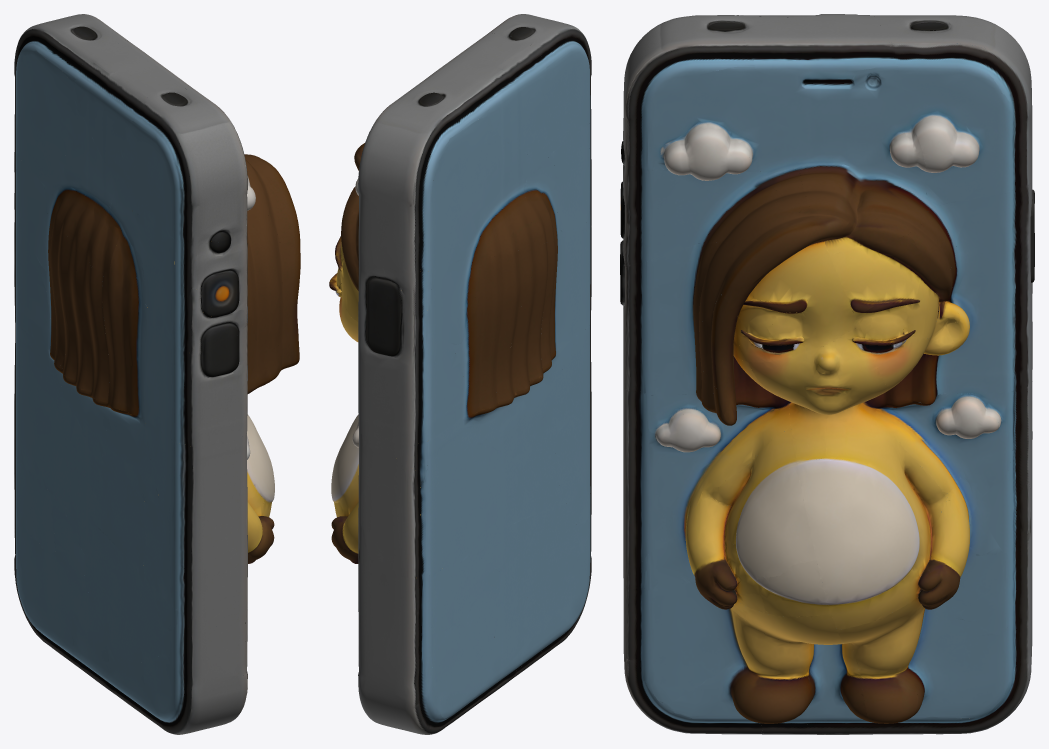
File: naibao_phone.fbx
3 views of the same model, side by side, from view 1: azimuth 30°, elevation 25°; view 2: azimuth 150°, elevation 25°; view 3: azimuth 270°, elevation 25° (orthographic). The views are drawn at different scales.
Visible parts, largest first — view 1: node_cf88554f-2180-4a45-8e4d-2079c4f29140; view 2: node_cf88554f-2180-4a45-8e4d-2079c4f29140; view 3: node_cf88554f-2180-4a45-8e4d-2079c4f29140.
Boxes of the visible parts, left/top/right/bottom form: node_cf88554f-2180-4a45-8e4d-2079c4f29140: left=14, top=14, right=300, bottom=734; node_cf88554f-2180-4a45-8e4d-2079c4f29140: left=329, top=14, right=591, bottom=734; node_cf88554f-2180-4a45-8e4d-2079c4f29140: left=620, top=14, right=1034, bottom=734.
Bounding box in the file's own units: 0.3189 × 1 × 0.5393.
1 material, 1 textured.
